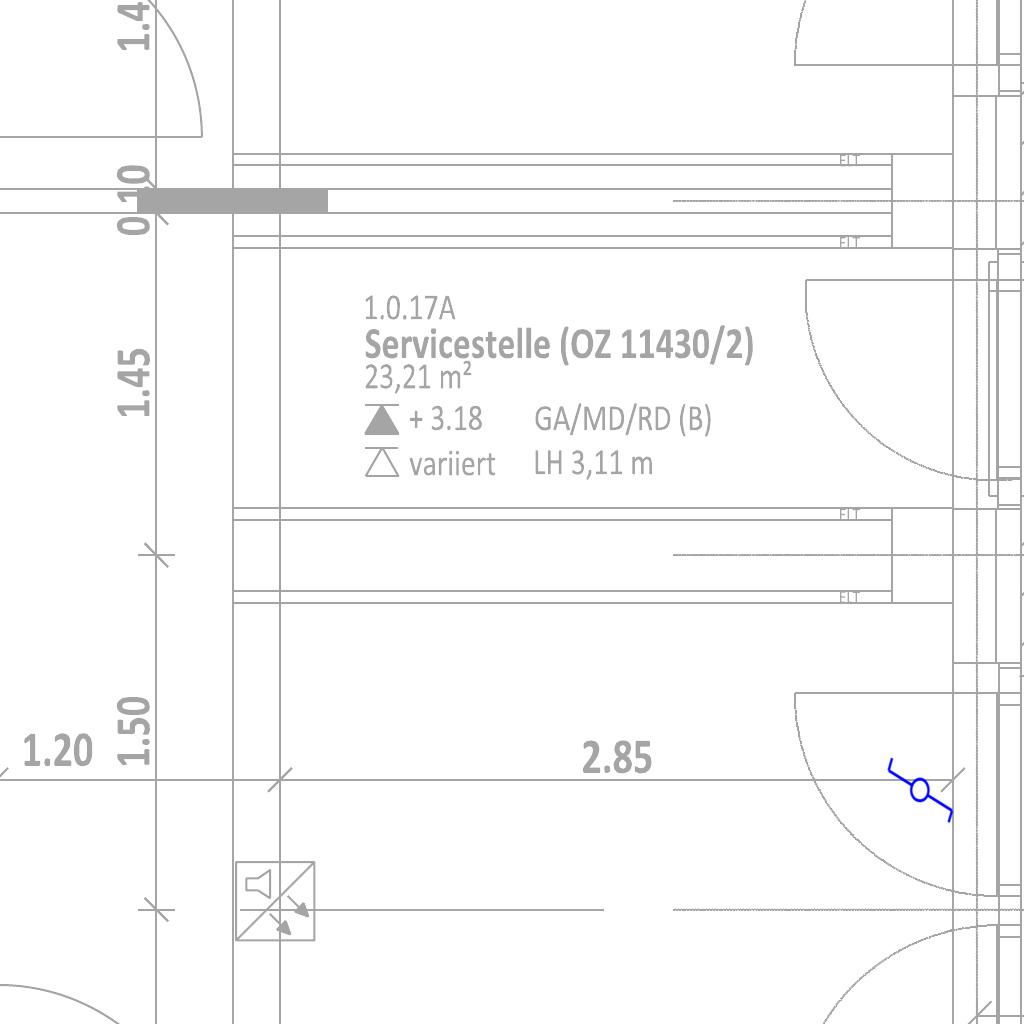Wechselschalter: (885, 747, 957, 825)
